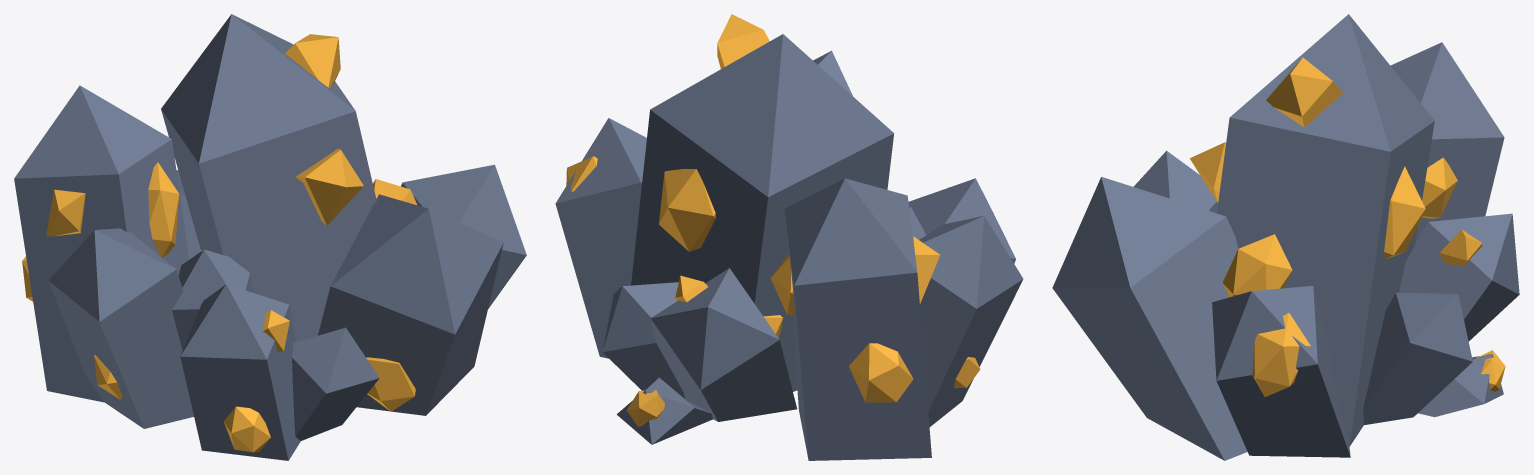
File: resource_stone3.fbx
The picture shows the model from 3 angles, left to right: view 1: azimuth 30°, elevation 25°; view 2: azimuth 150°, elevation 25°; view 3: azimuth 270°, elevation 25°; orthographic projection. The views are drawn at different scales.
Parts seen in each view (by area): view 1: resource_stone3; view 2: resource_stone3; view 3: resource_stone3.
Part boxes in pixels (box(x1,y1,x2,y2)): resource_stone3: box(14, 14, 526, 460); resource_stone3: box(555, 14, 1023, 460); resource_stone3: box(1052, 14, 1519, 460).
Size of the model in its own units: 221 by 175 by 207.
